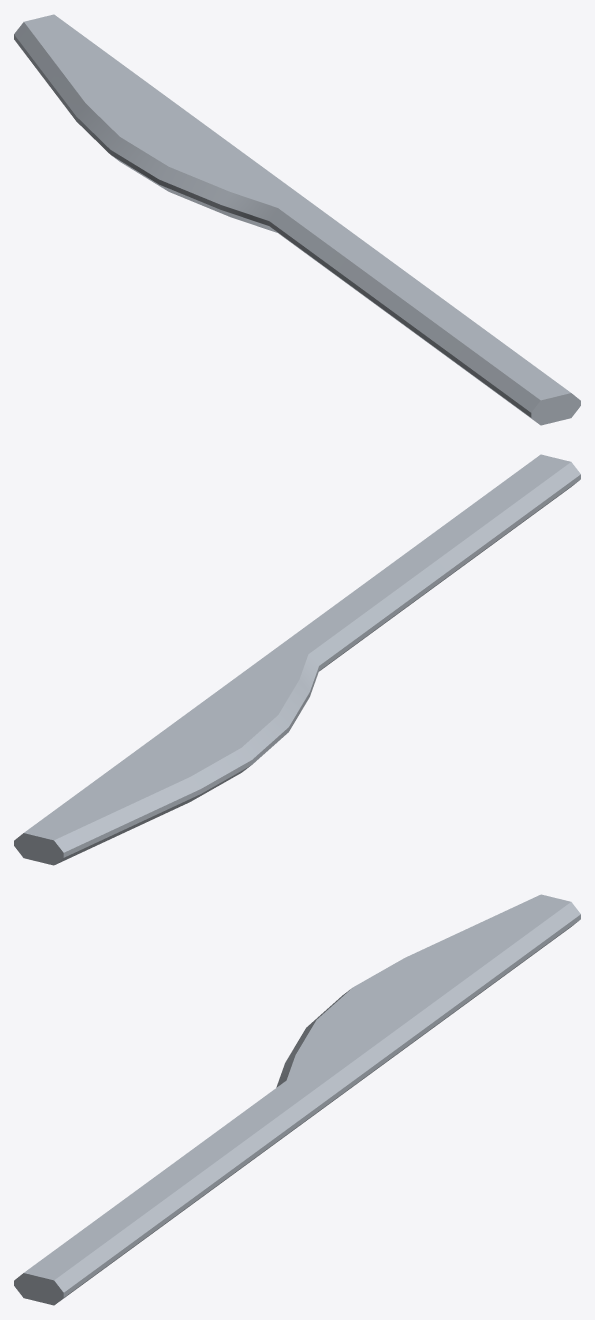
File: DinnerKnife_70s.fbx
3 views of the same model, one above another, from view 1: azimuth 30°, elevation 25°; view 2: azimuth 150°, elevation 25°; view 3: azimuth 330°, elevation 25° (orthographic).
Parts seen in each view (by area): view 1: P_Knife_70s_1; view 2: P_Knife_70s_1; view 3: P_Knife_70s_1.
Part boxes in pixels (left/top/right/bottom): P_Knife_70s_1: left=14, top=14, right=580, bottom=425; P_Knife_70s_1: left=14, top=454, right=580, bottom=865; P_Knife_70s_1: left=14, top=894, right=580, bottom=1305.
Size of the model in its own units: 0.1924 by 0.0483 by 1.8.
